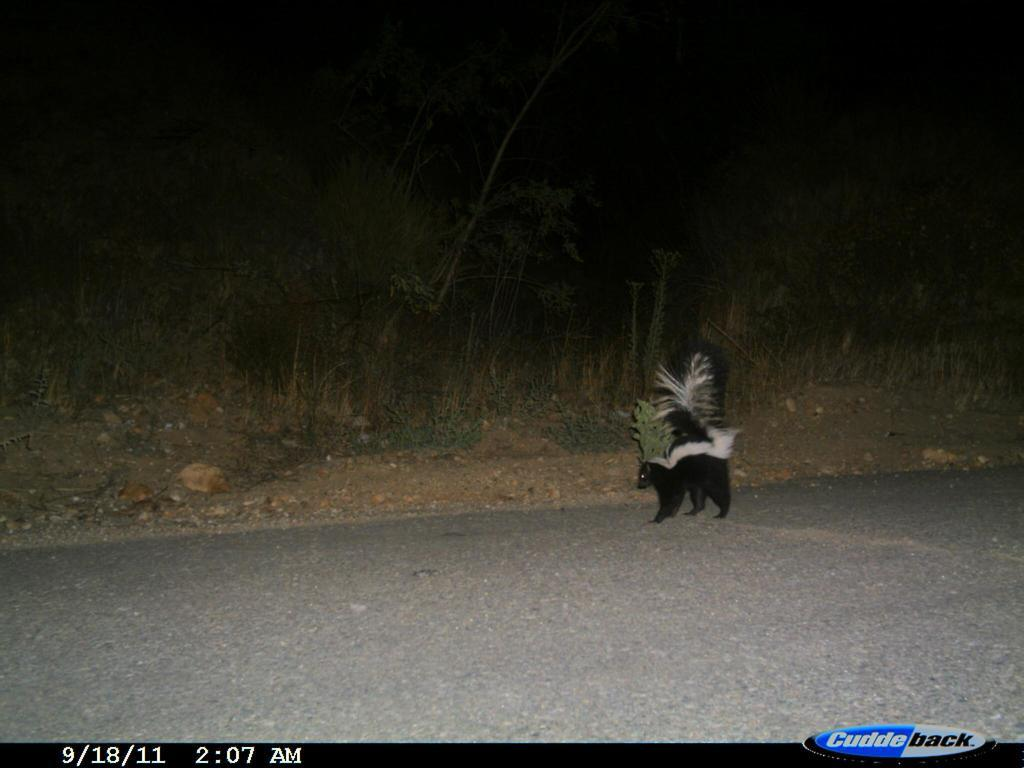skunk: (626, 345, 737, 525)
